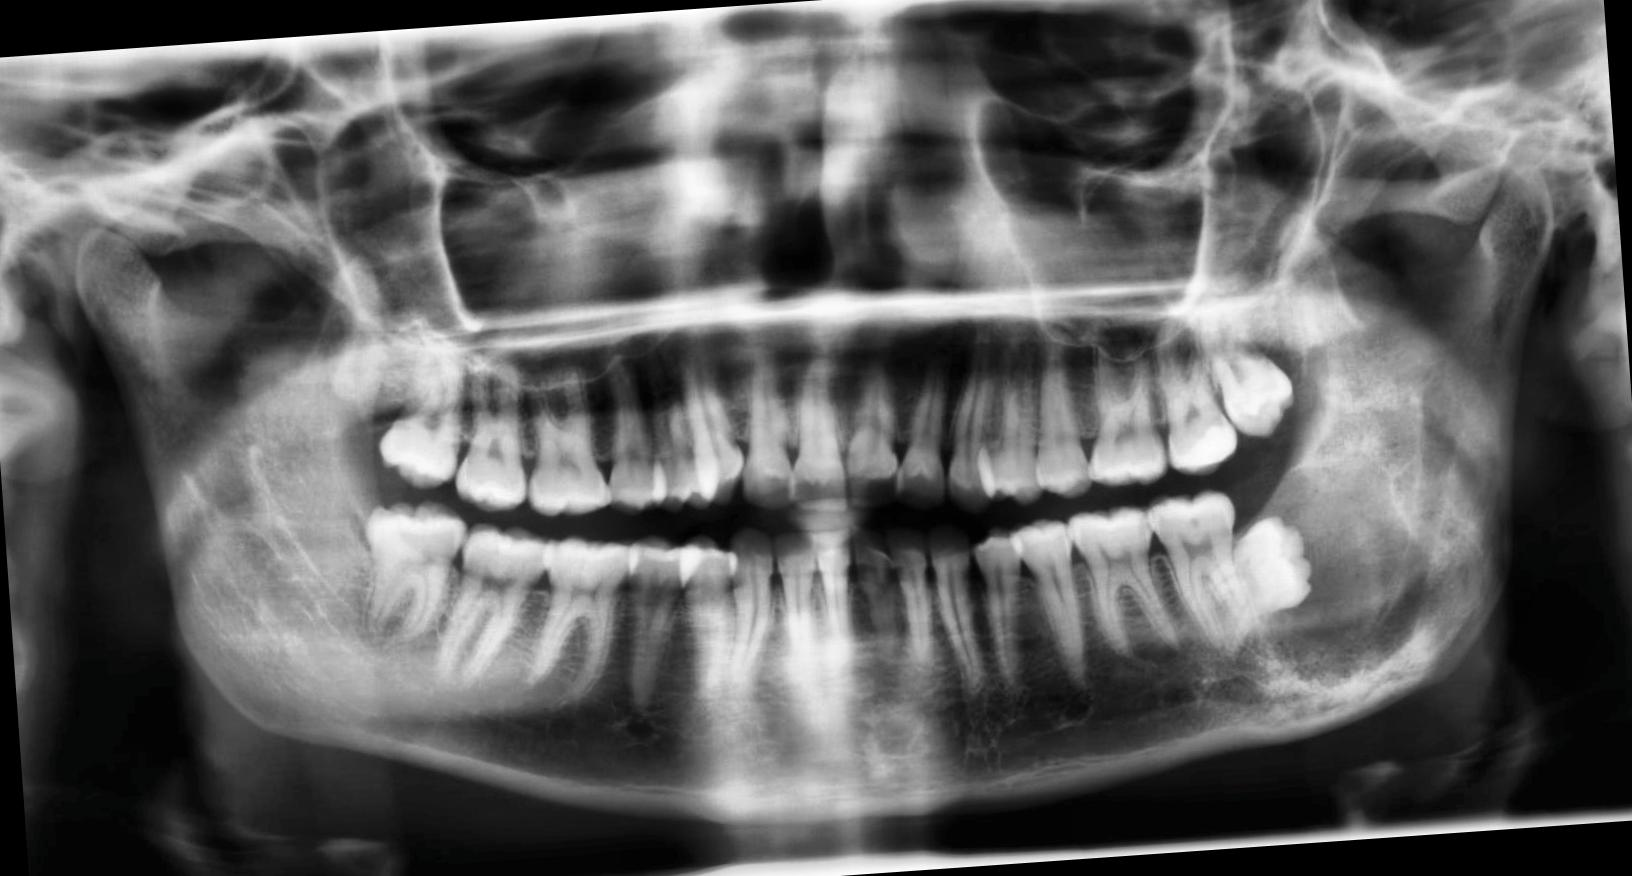keratokist: (1229, 448, 1423, 695)
